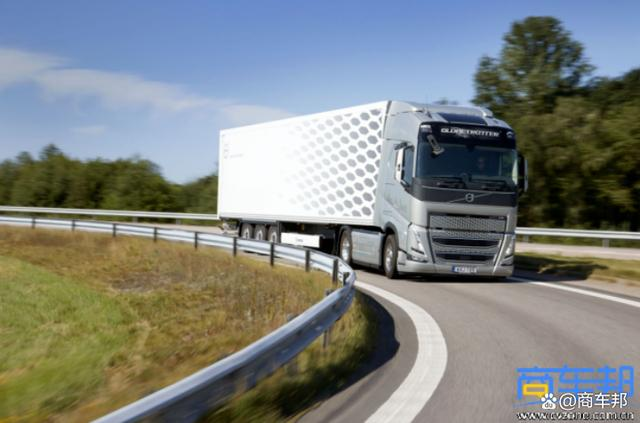卡车: (210, 96, 516, 290)
